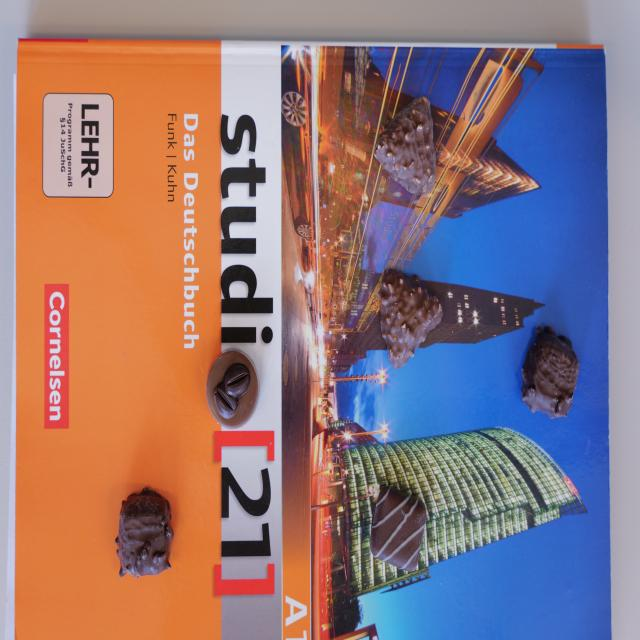Arabia: (208, 349, 260, 429)
Tentation_noir: (114, 486, 175, 580), (521, 326, 578, 422)
Triangolo: (381, 269, 444, 371), (374, 96, 436, 196)
